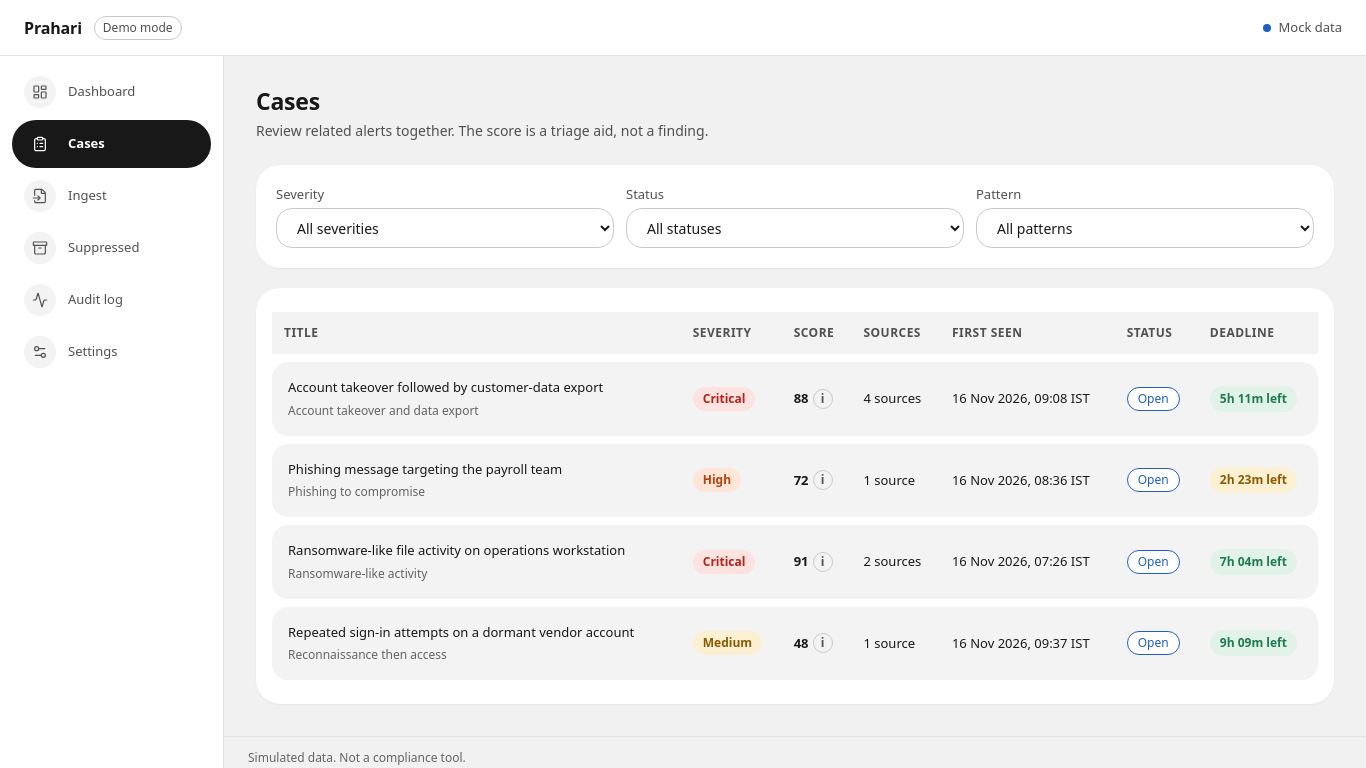
Test case: mock-mode frontend › filters the case list by severity
Expected: the link "Account takeover followed by customer-data export" is shown, [288, 378, 603, 396]
Select "Medium" in the dropdown labelled "Severity" at (445, 228), box [276, 208, 614, 248]
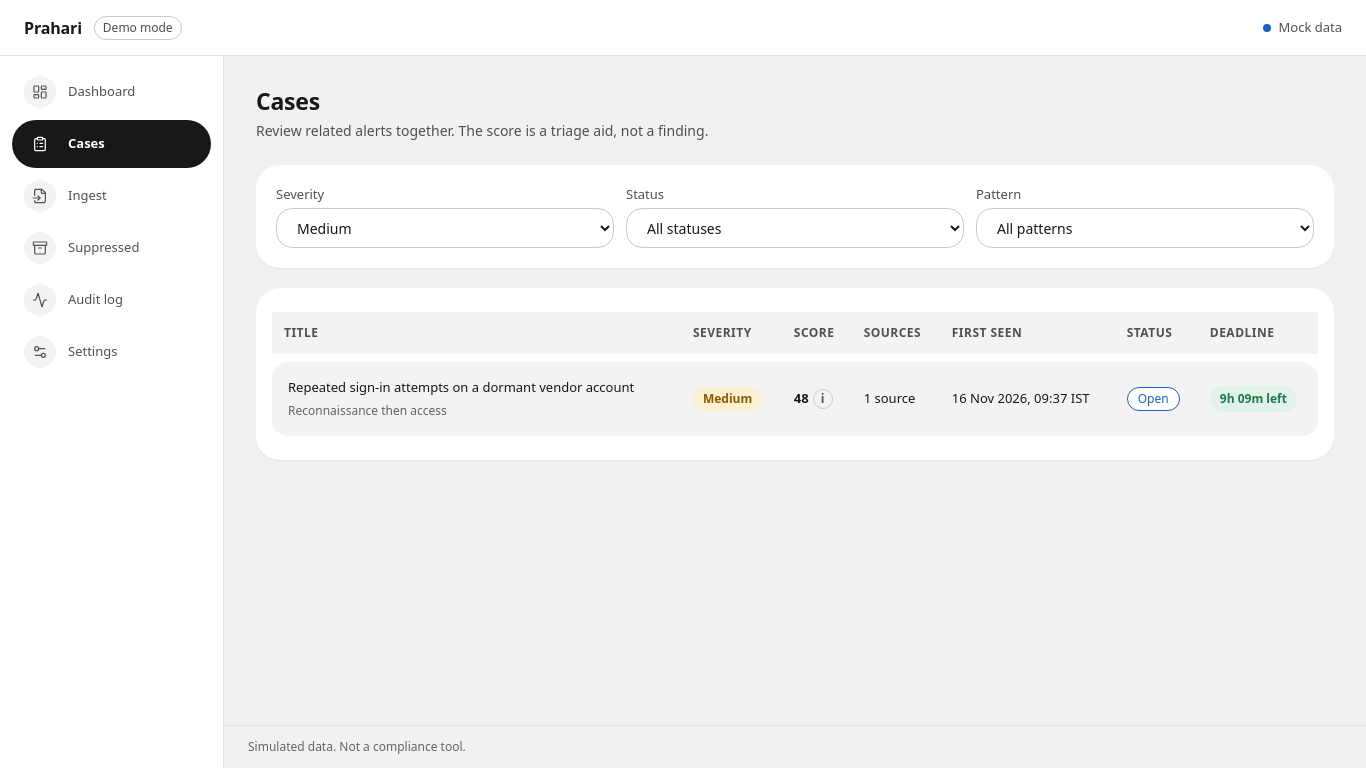
Expected: the link "Repeated sign-in attempts on a dormant vendor account" is shown, [288, 378, 634, 396]
Expected: no links "Account takeover followed by customer-data export" are shown
